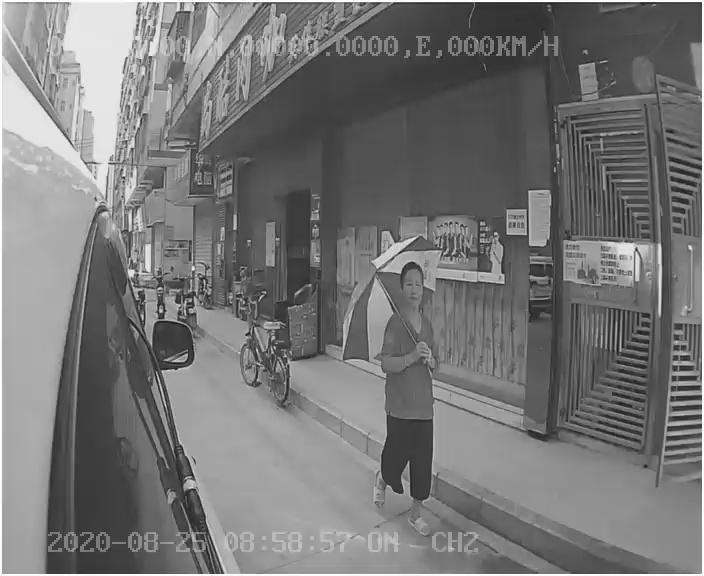person: (366, 263, 455, 529)
